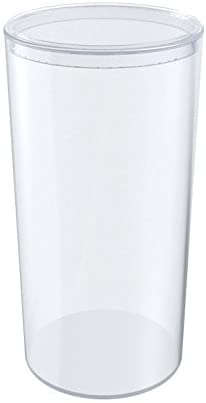PlasticBox: (1, 2, 205, 402)
